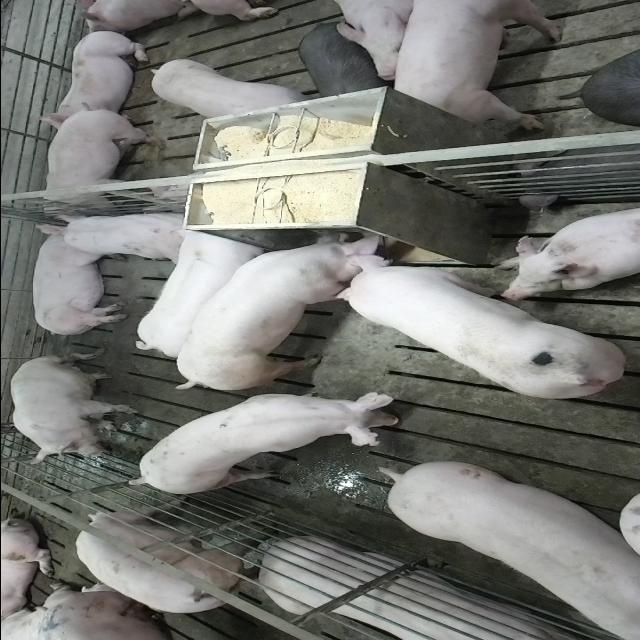Feeding: (332, 249, 626, 401), (173, 222, 396, 388)
Lateral_lying: (29, 222, 129, 338)
Sitting: (8, 354, 138, 464)
Standing: (382, 458, 640, 634), (130, 394, 415, 498), (386, 2, 568, 130), (75, 507, 271, 622), (129, 227, 265, 358), (34, 106, 168, 216), (144, 54, 306, 120), (292, 22, 392, 100)
Sternal_lying: (259, 539, 593, 640), (494, 202, 640, 296), (37, 27, 155, 123), (46, 207, 192, 261)
